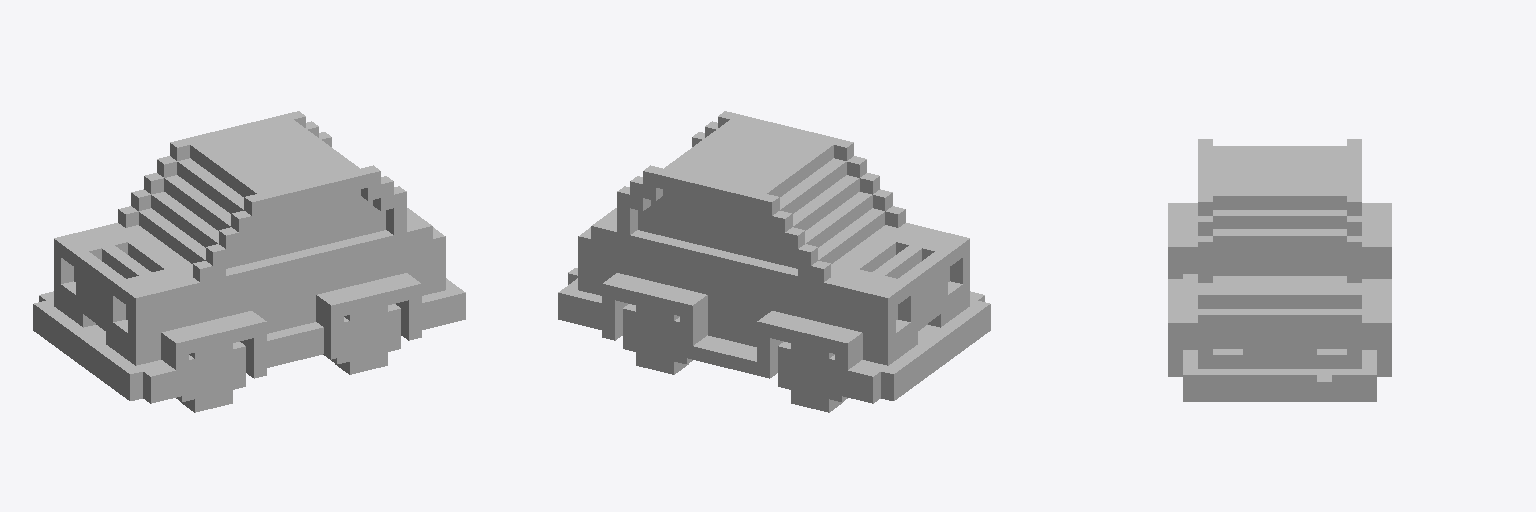
The model's file is lil car red.obj.
3 renders of one model, left to right at view 1: azimuth 30°, elevation 25°; view 2: azimuth 150°, elevation 25°; view 3: azimuth 270°, elevation 25°, orthographic.
Parts seen in each view (by area): view 1: object 1; view 2: object 1; view 3: object 1.
Boxes of the visible parts, x1=… form: object 1: x1=33, y1=111, x2=465, y2=412; object 1: x1=558, y1=111, x2=990, y2=412; object 1: x1=1168, y1=139, x2=1391, y2=401.
Bounding box in the file's own units: 2.7 × 1.4 × 1.5.